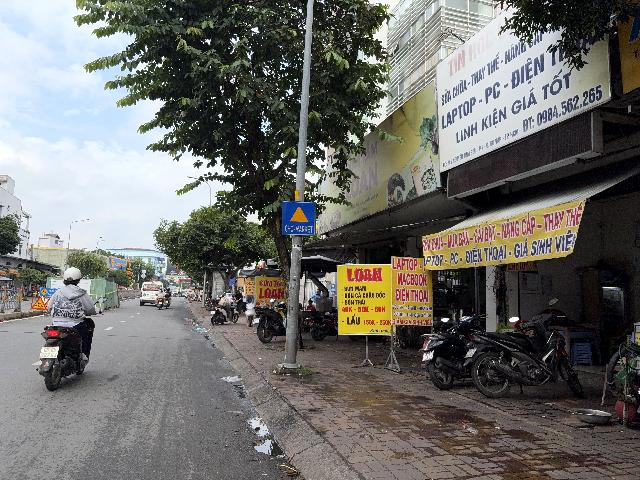khu-vuc-cho-phia-truoc: (282, 201, 316, 236)
